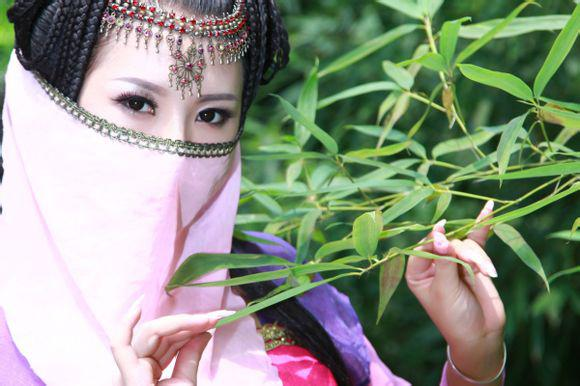OK: (66, 47, 252, 233)
